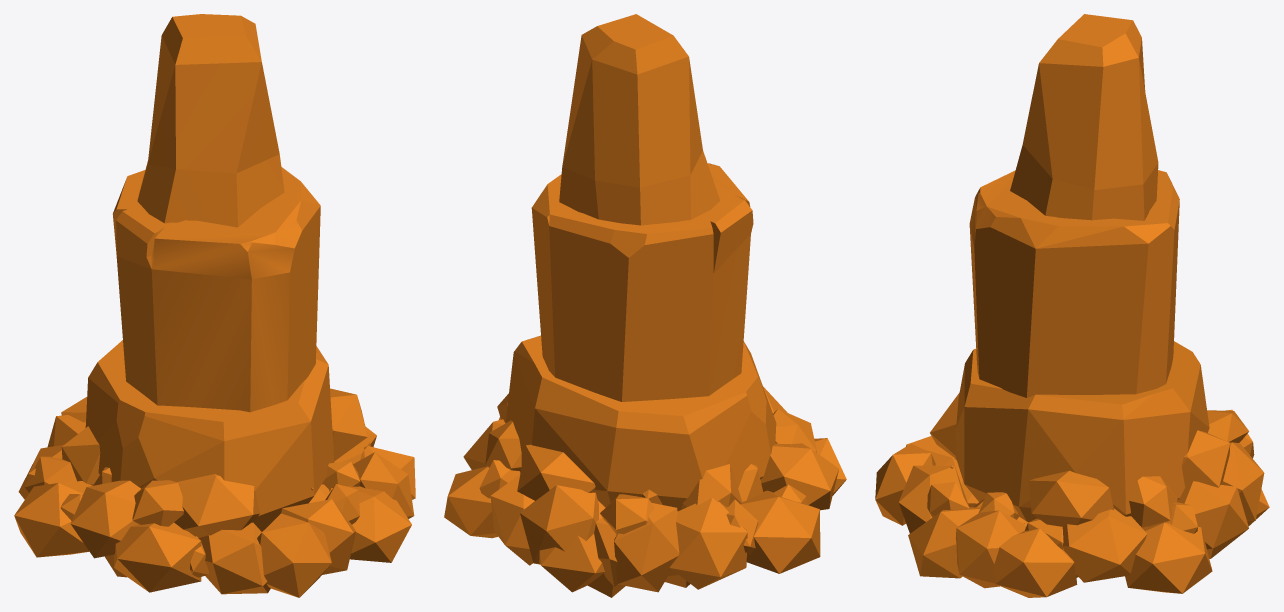
The model's file is NIO_DesertRock1.fbx.
3 views of the same model, side by side, from view 1: azimuth 30°, elevation 25°; view 2: azimuth 150°, elevation 25°; view 3: azimuth 270°, elevation 25° (orthographic).
Parts seen in each view (by area): view 1: Cube.001; view 2: Cube.001; view 3: Cube.001.
Part boxes in pixels (box(x1,y1,x2,y2)): Cube.001: box(14, 14, 415, 597); Cube.001: box(444, 14, 846, 597); Cube.001: box(875, 14, 1269, 597).
Bounding box in the file's own units: 322 × 449 × 307.
